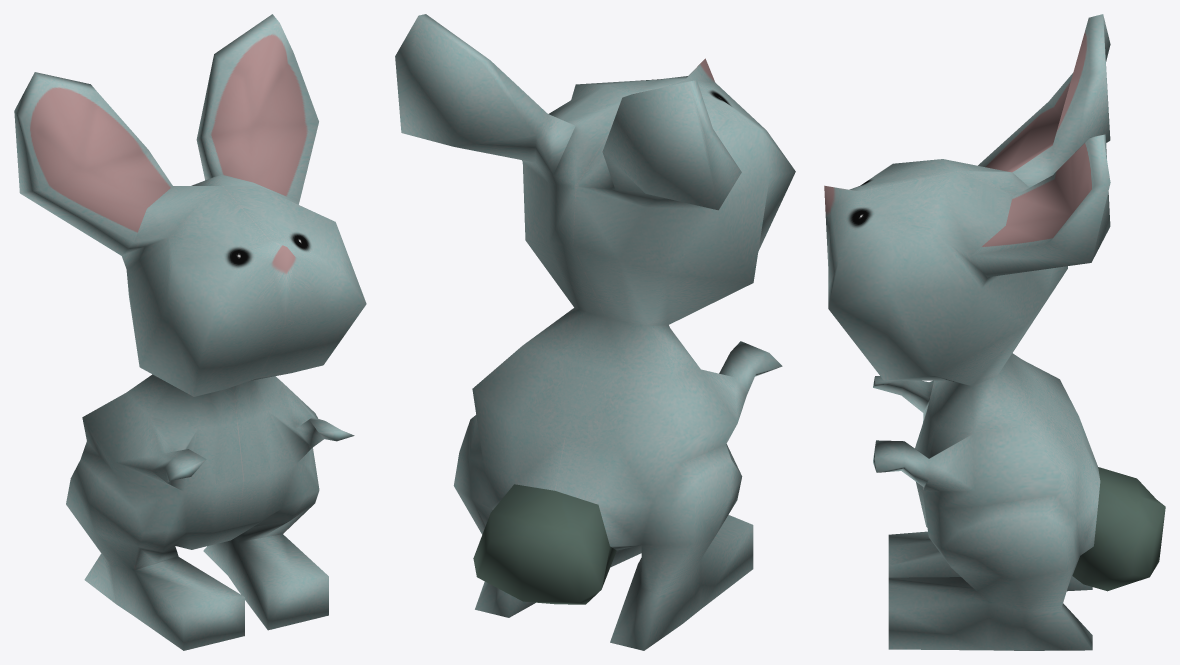
File: pets_01.fbx
3 views of the same model, side by side, from view 1: azimuth 30°, elevation 25°; view 2: azimuth 150°, elevation 25°; view 3: azimuth 270°, elevation 25° (orthographic). The views are drawn at different scales.
Visible parts, largest first — view 1: pets_01; view 2: pets_01; view 3: pets_01.
Boxes of the visible parts, bbox=[...] form: pets_01: bbox=[14, 14, 366, 650]; pets_01: bbox=[395, 14, 795, 650]; pets_01: bbox=[824, 14, 1165, 650].
Size of the model in its own units: 2.4 by 4.24 by 2.44.
